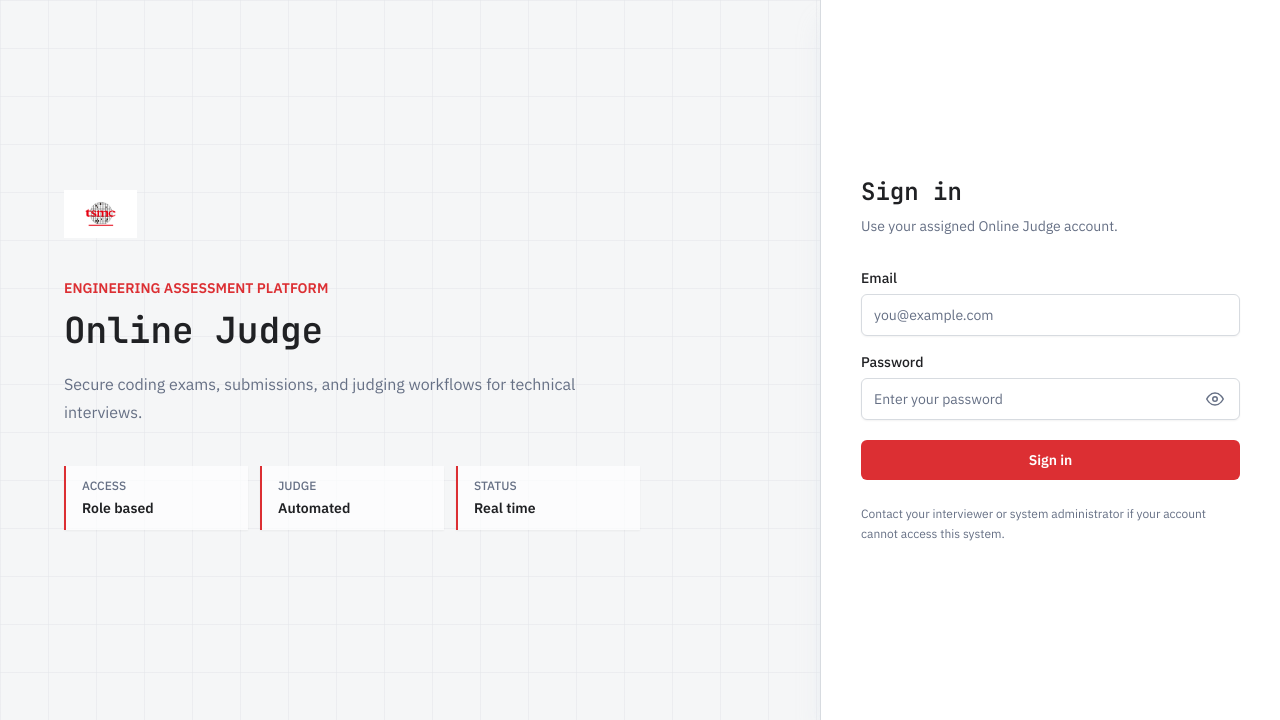
Scenario: Login page › disables submit button while loading
Type "a@b.com" into the field labelled "Email" at (1050, 315), box top-left (861, 294), bottom-right (1240, 336)
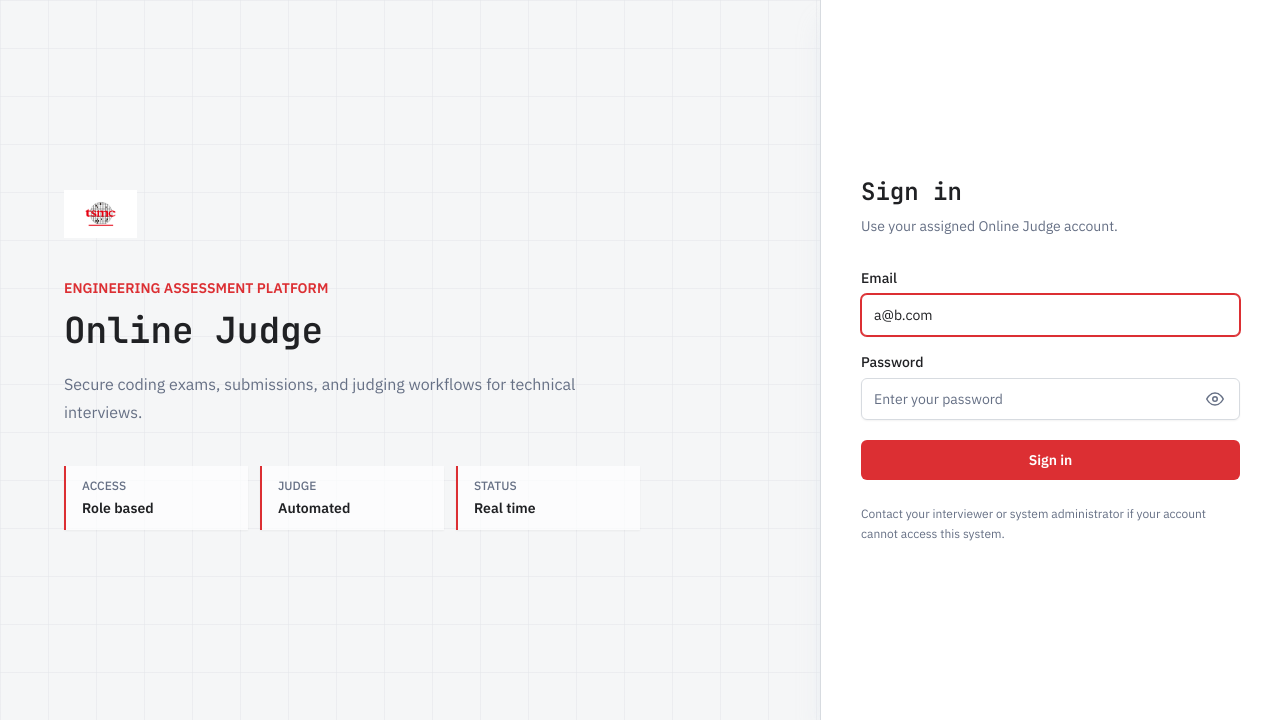
Type "pass" into the password field labelled "Password" at (1050, 399), box top-left (861, 378), bottom-right (1240, 420)
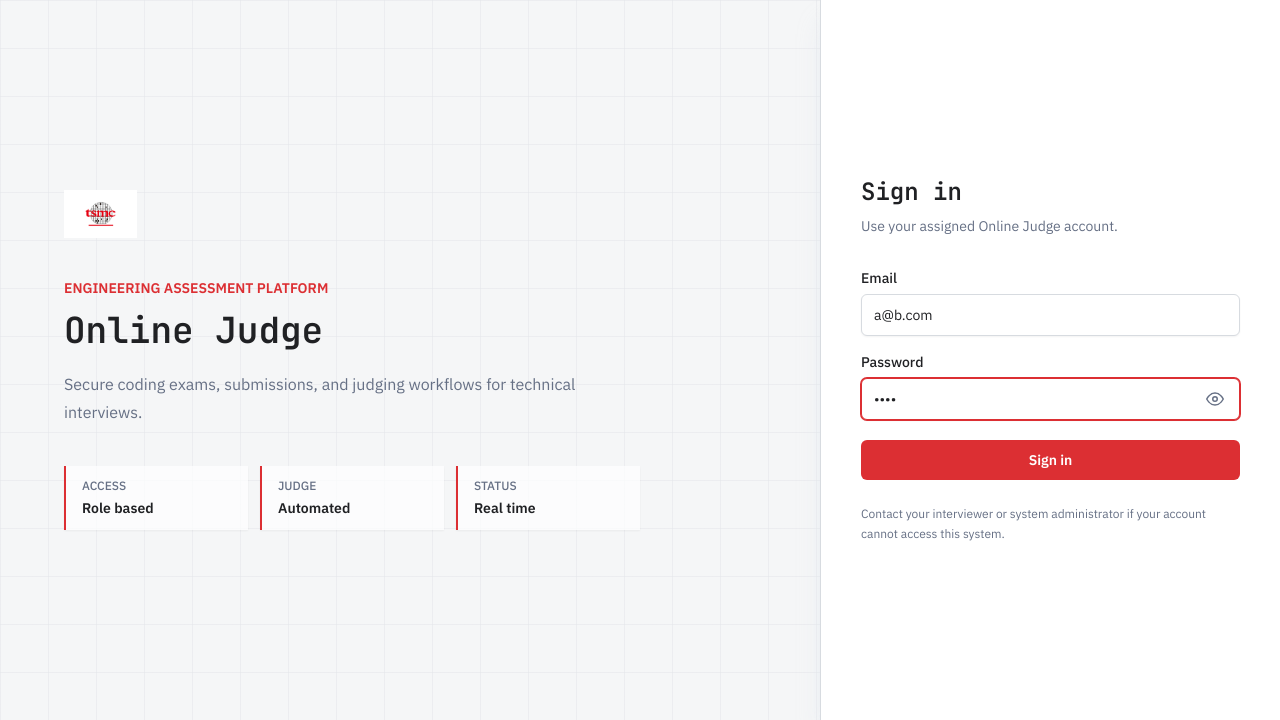
Click the button "Sign in" at (1050, 460), box top-left (861, 440), bottom-right (1240, 480)
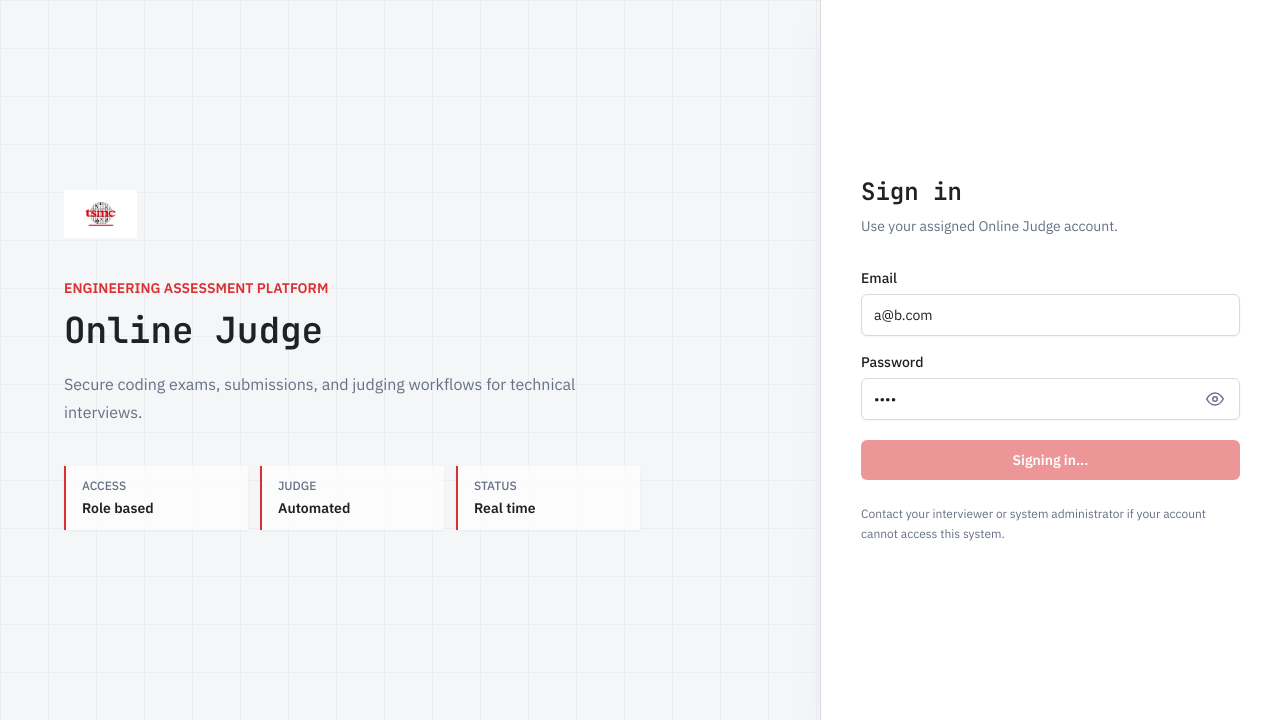
Now the button "Signing in..." is disabled, box top-left (861, 440), bottom-right (1240, 480)
